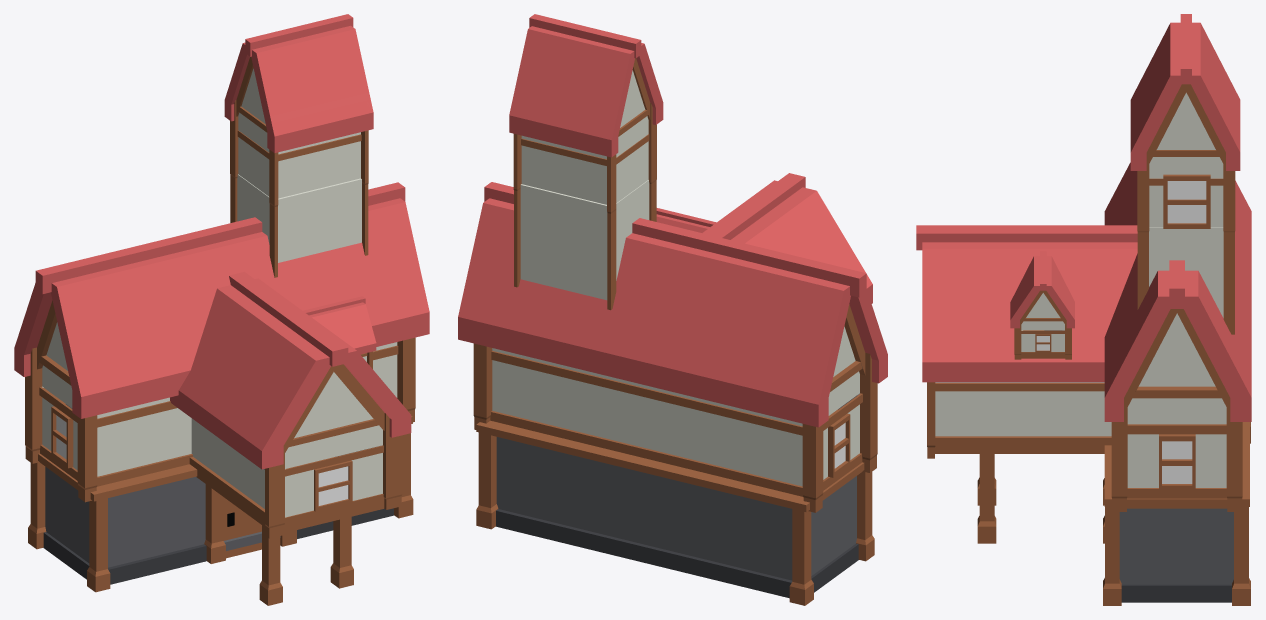
The model's file is casaTest3.fbx.
3 views of the same model, side by side, from view 1: azimuth 30°, elevation 25°; view 2: azimuth 150°, elevation 25°; view 3: azimuth 270°, elevation 25° (orthographic). The views are drawn at different scales.
Parts seen in each view (by area): view 1: polySurface76; view 2: polySurface76; view 3: polySurface76.
Part boxes in pixels (x1,y1,x2,y2): polySurface76: (14,14,429,605); polySurface76: (458,14,887,605); polySurface76: (916,14,1251,605).
Size of the model in its own units: 12.53 by 15.8 by 9.14.
